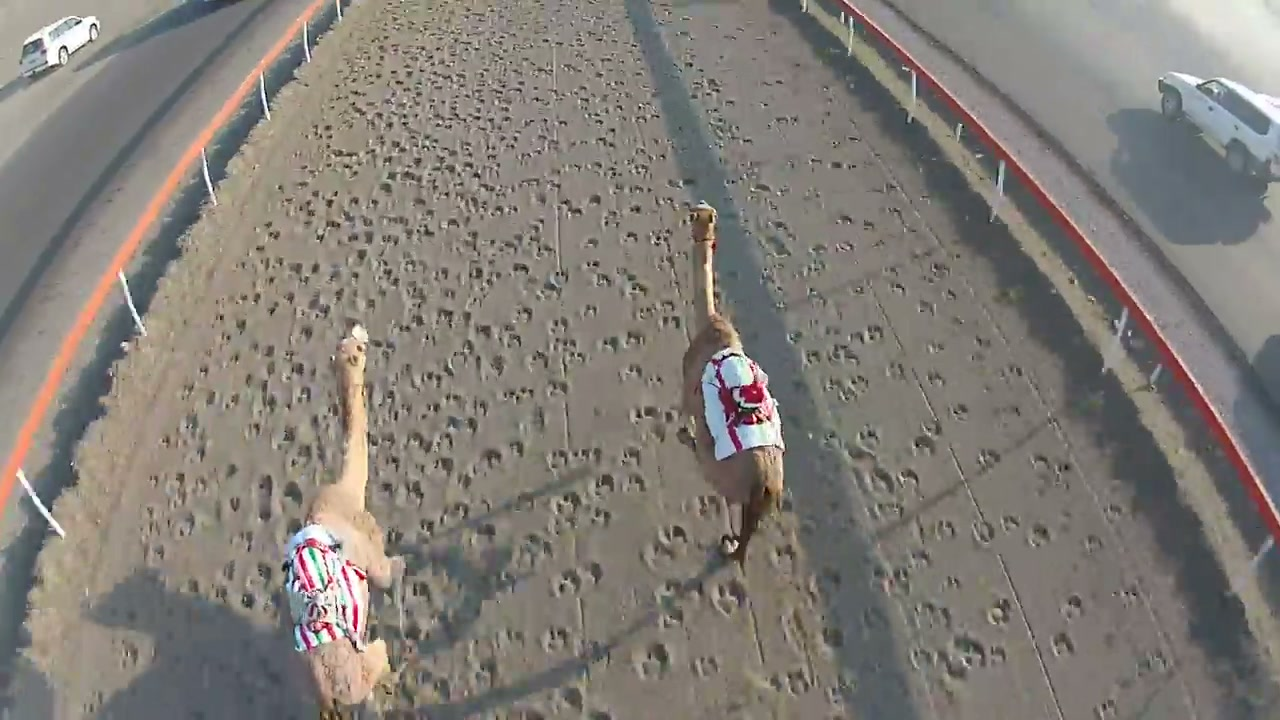animal_foot_print: (27, 0, 1243, 719), (641, 524, 690, 570), (551, 562, 603, 597), (632, 642, 675, 679), (707, 577, 748, 615)
